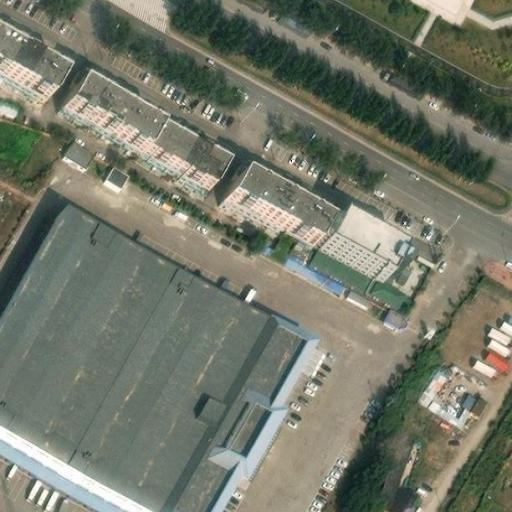building: (0, 201, 310, 512), (0, 428, 149, 512), (232, 168, 336, 240), (69, 75, 162, 148), (324, 211, 408, 277), (147, 122, 227, 187), (258, 234, 347, 290), (0, 33, 64, 92), (413, 358, 455, 406), (467, 340, 512, 382), (57, 135, 94, 171), (97, 161, 130, 194), (456, 387, 487, 418), (376, 303, 408, 333)
